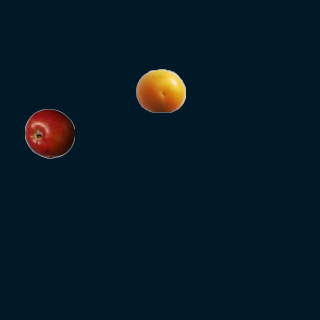Apple Braeburn: (24, 108, 74, 158)
Cherry Wax Yellow: (135, 65, 185, 115)
